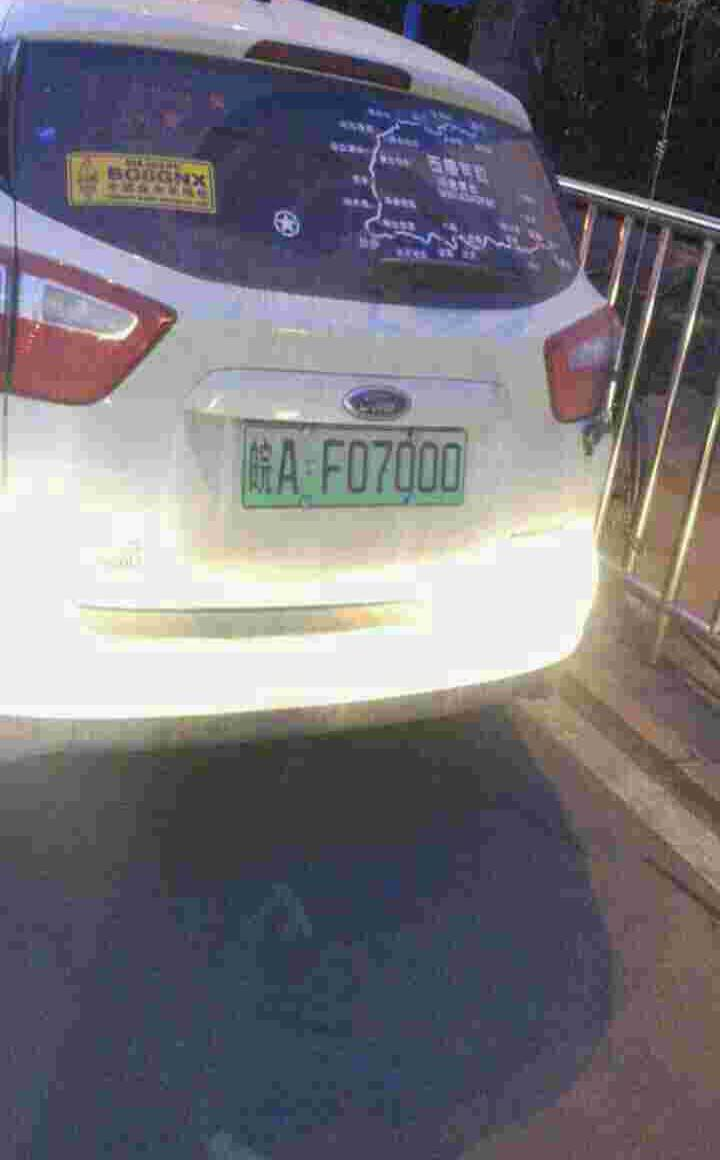car: (232, 421, 486, 514)
